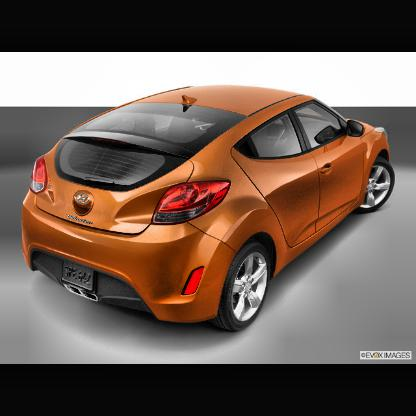Hyundai Veloster Hatchback 2012: (16, 86, 398, 335)
